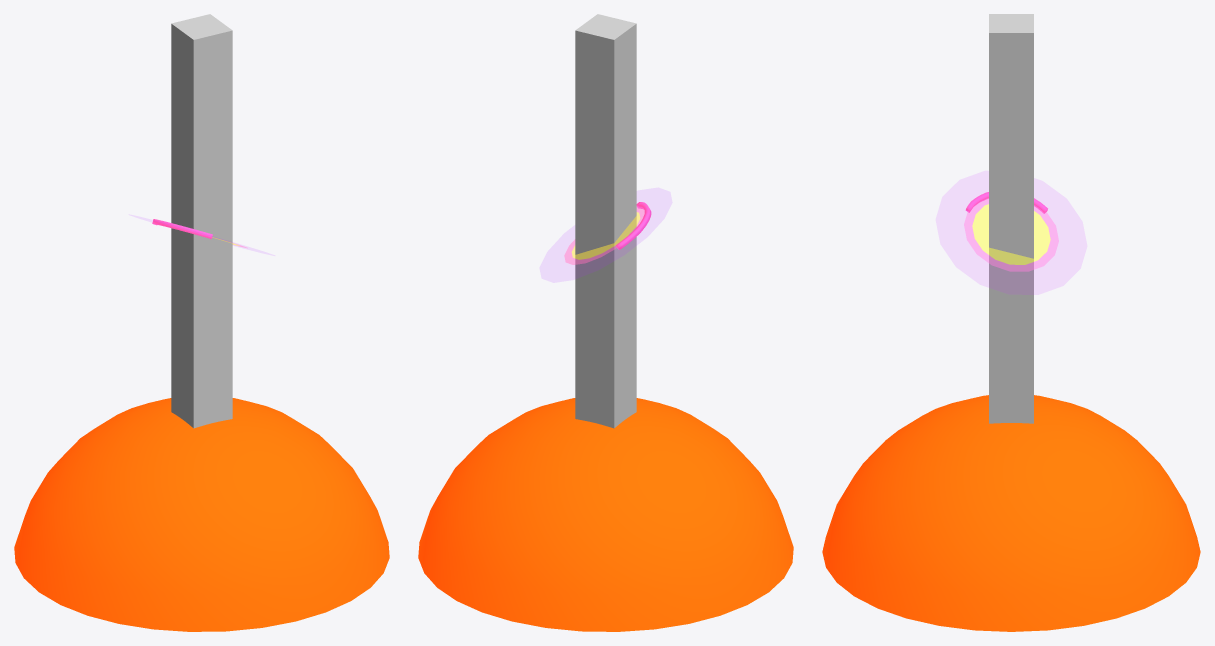
Rendered from holo.glb.
3 views of the same model, side by side, from view 1: azimuth 30°, elevation 25°; view 2: azimuth 150°, elevation 25°; view 3: azimuth 270°, elevation 25° (orthographic).
Parts seen in each view (by area): view 1: Sphere, Cube; view 2: Sphere, Cube, Circle; view 3: Sphere, Cube, Circle.
Boxes of the visible parts, left/top/right/bottom form: Sphere: left=14, top=398, right=389, bottom=631; Cube: left=171, top=14, right=232, bottom=428; Sphere: left=418, top=398, right=793, bottom=631; Cube: left=575, top=14, right=636, bottom=428; Circle: left=564, top=206, right=644, bottom=264; Sphere: left=822, top=395, right=1200, bottom=631; Cube: left=989, top=14, right=1033, bottom=423; Circle: left=964, top=197, right=1058, bottom=271.
Bounding box in the file's own units: 16.71 × 25.76 × 16.71.
